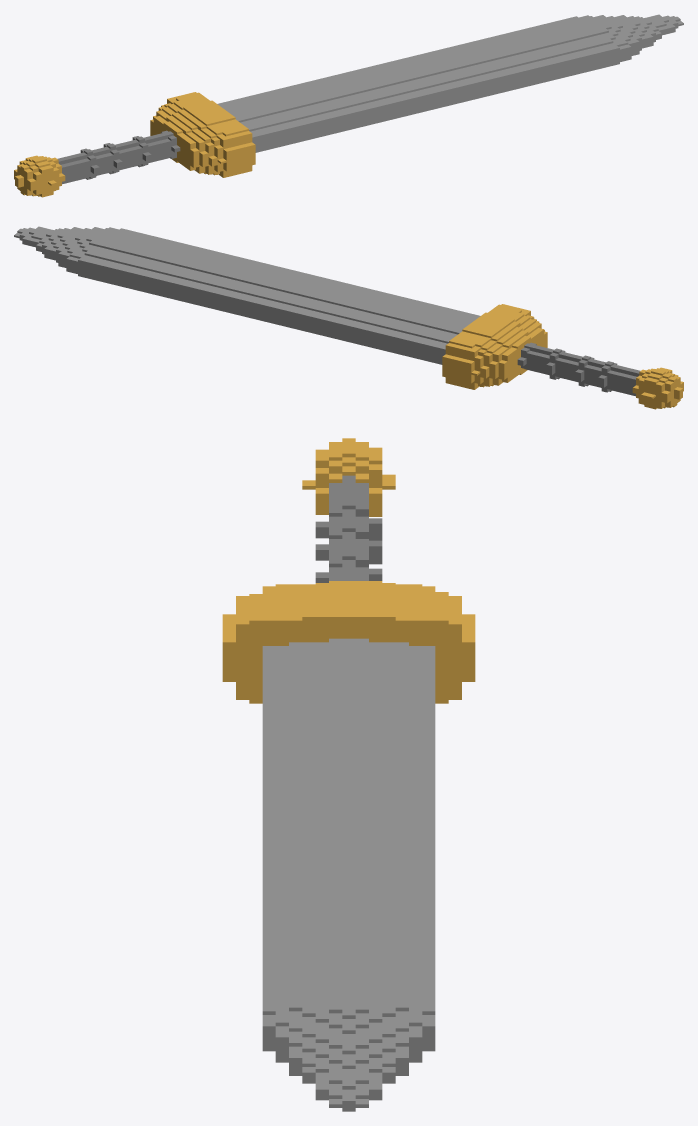
The model's file is Sword.fbx.
3 views of the same model, one above another, from view 1: azimuth 30°, elevation 25°; view 2: azimuth 150°, elevation 25°; view 3: azimuth 270°, elevation 25° (orthographic). The views are drawn at different scales.
Parts seen in each view (by area): view 1: Blade, Cross-Guard, Grip, Pommel; view 2: Blade, Cross-Guard, Grip, Pommel; view 3: Blade, Cross-Guard, Grip, Pommel.
Part boxes in pixels (x1,y1,x2,y2): Blade: (217,14,683,152); Cross-Guard: (150,92,255,177); Grip: (57,130,180,184); Pommel: (14,155,65,197); Blade: (14,226,480,364); Cross-Guard: (442,304,547,389); Grip: (517,342,640,396); Pommel: (632,367,683,409); Blade: (262,638,435,1111); Cross-Guard: (222,581,475,703); Grip: (315,475,382,582); Pommel: (302,438,395,516).
Bounding box in the file's own units: 0.6039 × 0.0998 × 0.0393.
